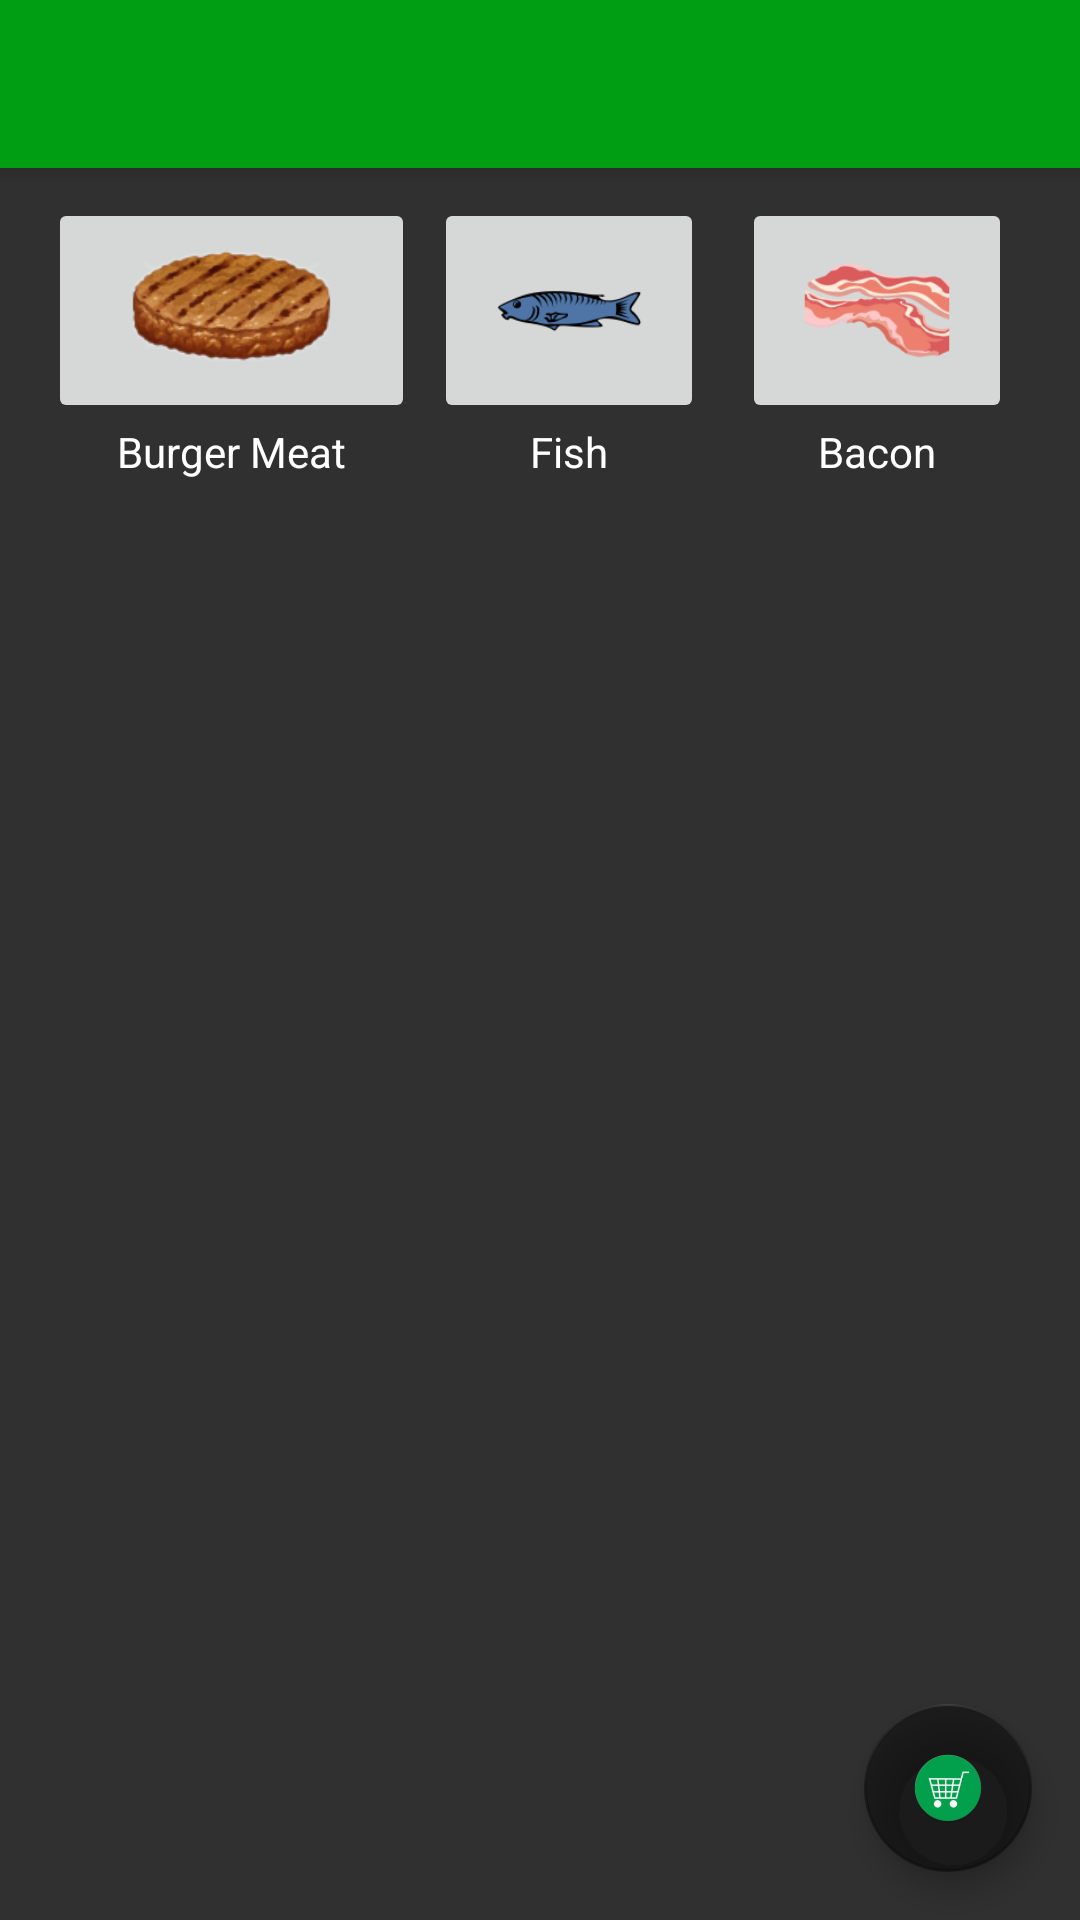

Named icons in this screenshot (1080 × 1920) and their bounding boxes, (x1, y1, x2, y2):
shopping cart: (864, 1704, 1032, 1872)
